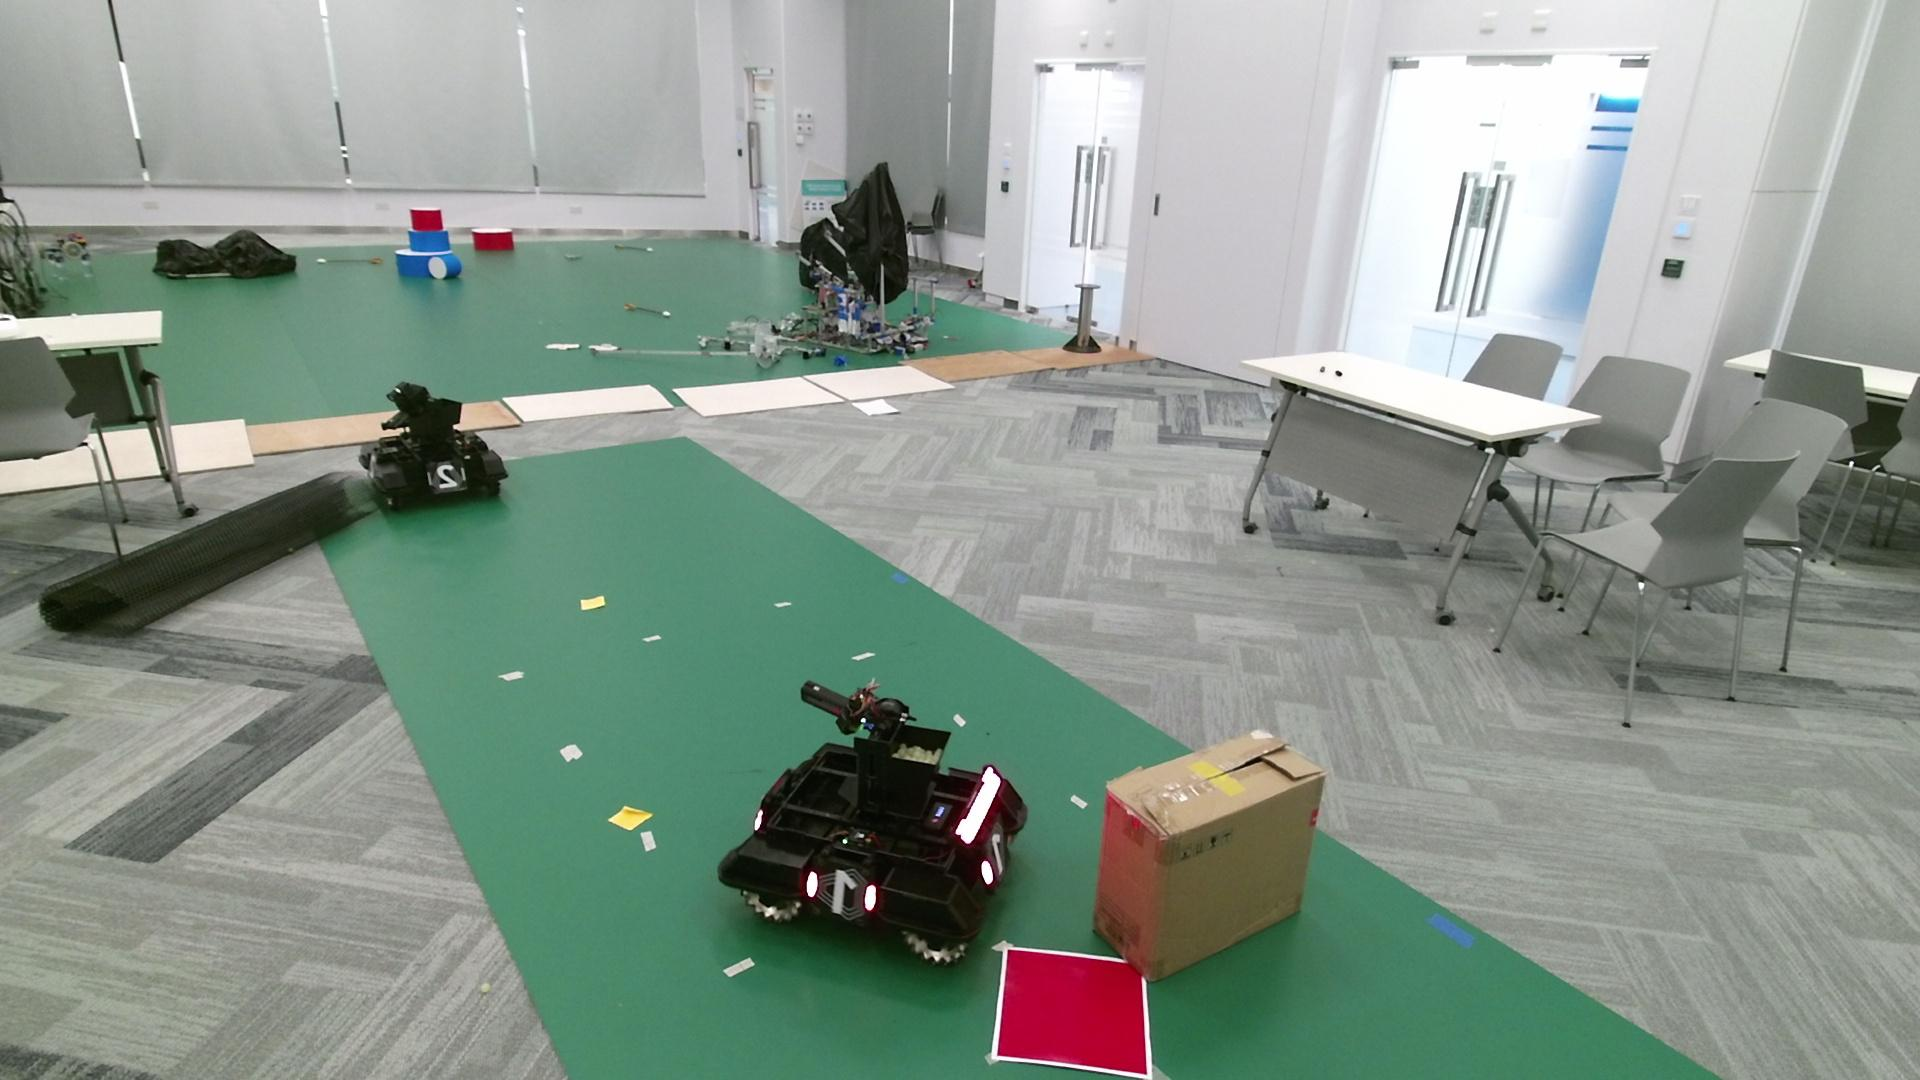robot: (716, 680, 1030, 968), (359, 380, 508, 516)
